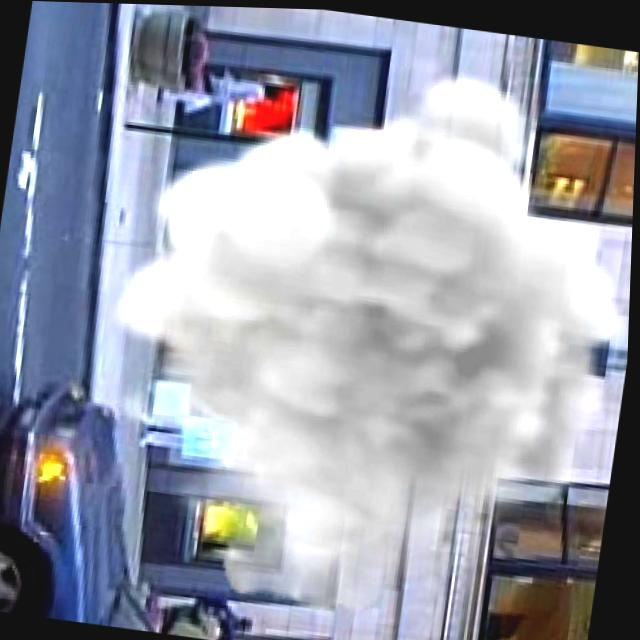no_helmet: (75, 21, 638, 640)
